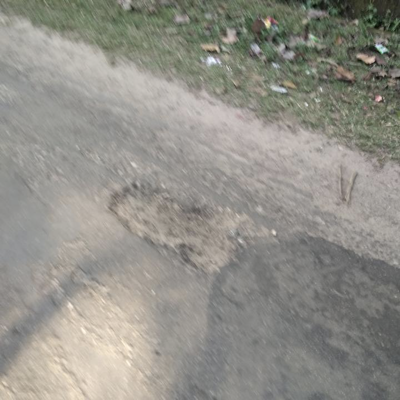pothole: (106, 181, 243, 273)
